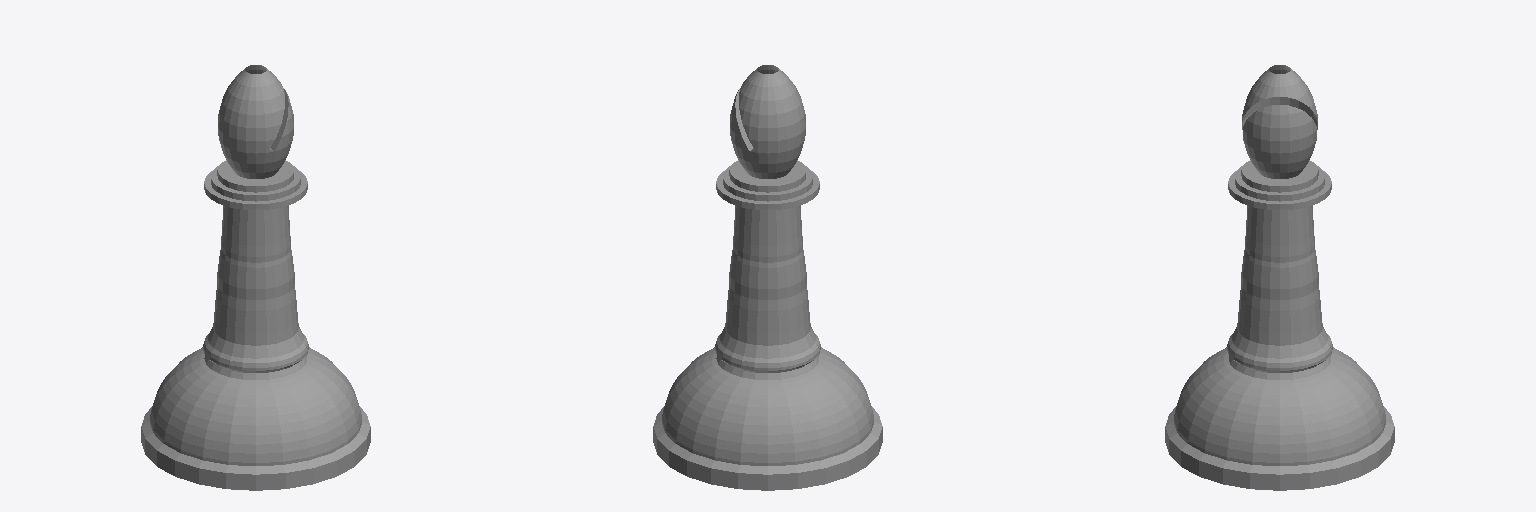
The model's file is 4_alfil.obj.
The picture shows the model from 3 angles: view 1: azimuth 30°, elevation 25°; view 2: azimuth 150°, elevation 25°; view 3: azimuth 270°, elevation 25°; orthographic projection.
Parts seen in each view (by area): view 1: instance_24.001_ID280, instance_24_ID272, instance_24.002_ID288, instance_24.003_ID296, instance_24.004_ID304, instance_24.006_ID320, instance_24.005_ID312; view 2: instance_24.001_ID280, instance_24_ID272, instance_24.002_ID288, instance_24.003_ID296, instance_24.004_ID304, instance_24.006_ID320, instance_24.005_ID312; view 3: instance_24.001_ID280, instance_24_ID272, instance_24.007_ID328, instance_24.002_ID288, instance_24.003_ID296, instance_24.004_ID304, instance_24.006_ID320, instance_24.005_ID312.
Part boxes in pixels (x1,y1,x2,y2): instance_24.001_ID280: (141,347,370,490); instance_24_ID272: (203,205,308,370); instance_24.002_ID288: (218,65,284,153); instance_24.003_ID296: (219,140,292,178); instance_24.004_ID304: (217,160,293,192); instance_24.006_ID320: (204,171,307,209); instance_24.005_ID312: (211,166,300,201); instance_24.001_ID280: (653,347,882,490); instance_24_ID272: (715,205,820,370); instance_24.002_ID288: (739,65,805,153); instance_24.003_ID296: (731,140,804,178); instance_24.004_ID304: (729,160,805,192); instance_24.006_ID320: (716,171,819,209); instance_24.005_ID312: (723,166,812,201); instance_24.001_ID280: (1165,347,1394,490); instance_24_ID272: (1227,205,1332,370); instance_24.007_ID328: (1243,105,1316,153); instance_24.002_ID288: (1242,65,1317,129); instance_24.003_ID296: (1243,140,1316,178); instance_24.004_ID304: (1241,160,1318,192); instance_24.006_ID320: (1228,171,1331,209); instance_24.005_ID312: (1235,166,1324,201).
Size of the model in its own units: 0.034 by 0.061 by 0.034.